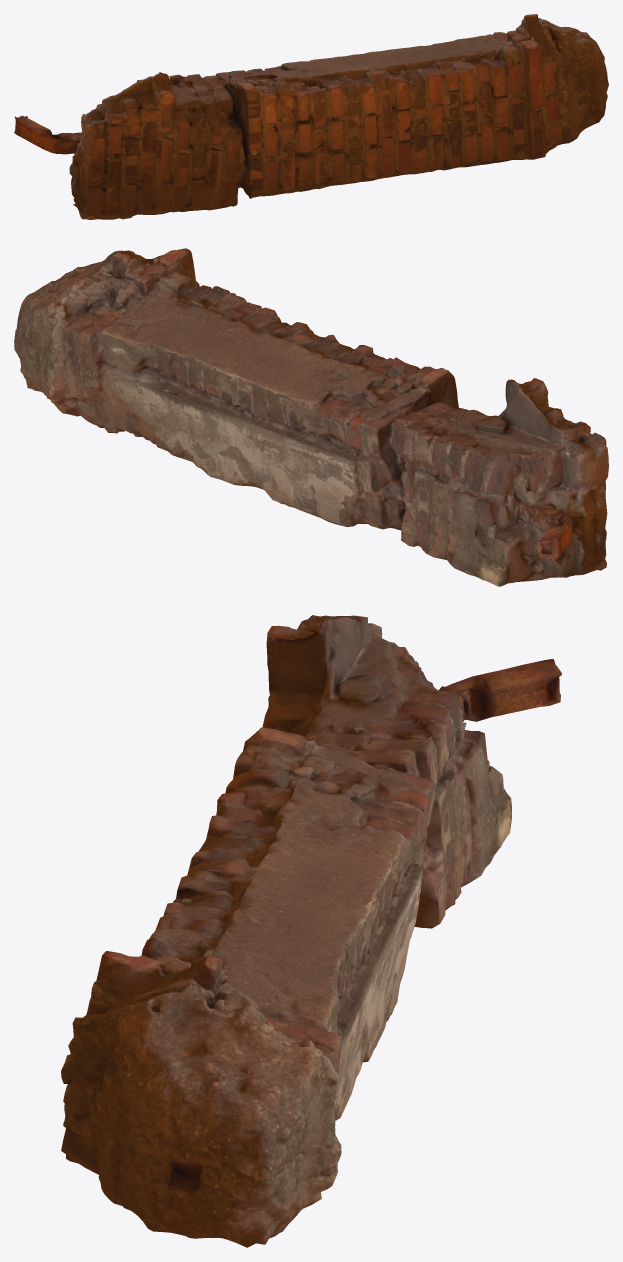
Rendered from brick-wall.glb.
The picture shows the model from 3 angles, top to bottom: view 1: azimuth 30°, elevation 25°; view 2: azimuth 150°, elevation 25°; view 3: azimuth 270°, elevation 25°; orthographic projection. The views are drawn at different scales.
Parts seen in each view (by area): view 1: Brick Ruins.001; view 2: Brick Ruins.001; view 3: Brick Ruins.001.
Part boxes in pixels (x1,y1,x2,y2): Brick Ruins.001: [14, 14, 608, 219]; Brick Ruins.001: [14, 248, 608, 586]; Brick Ruins.001: [61, 615, 561, 1247].
Bounding box in the file's own units: 0.7252 × 0.185 × 0.3113.
1 material, 1 textured.
